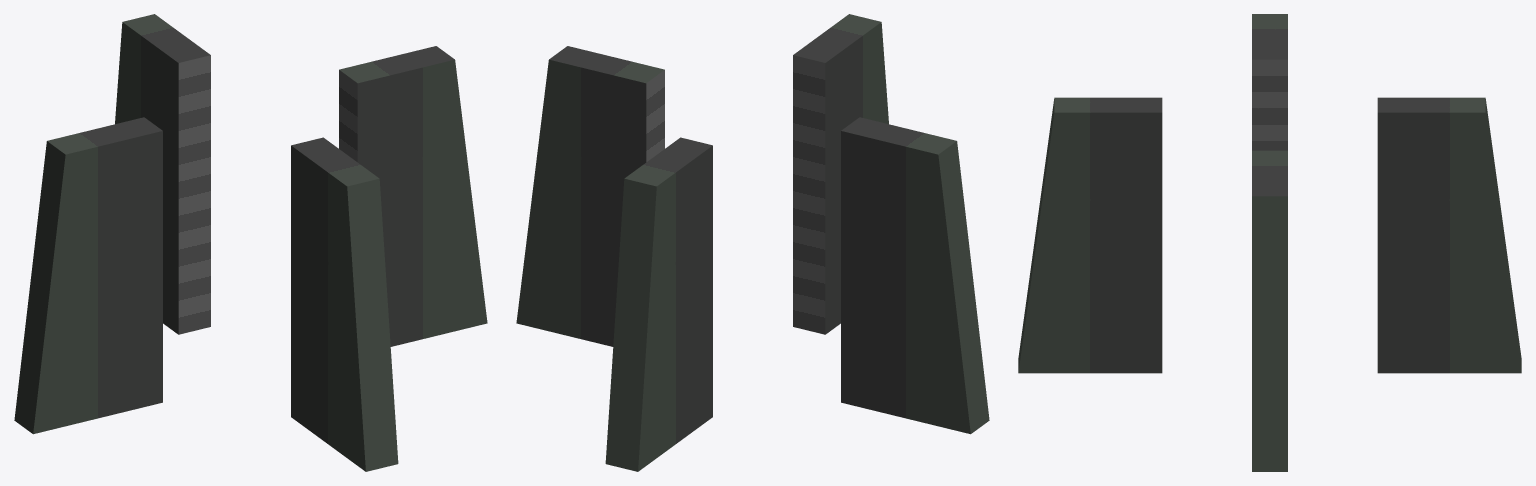
The model's file is mp_s_10_flat.obj.
3 views of the same model, side by side, from view 1: azimuth 30°, elevation 25°; view 2: azimuth 150°, elevation 25°; view 3: azimuth 270°, elevation 25° (orthographic). The views are drawn at different scales.
Parts seen in each view (by area): view 1: Cube; view 2: Cube; view 3: Cube.
Part boxes in pixels (box(x1,y1,x2,y2)): Cube: box(14, 14, 487, 471); Cube: box(516, 14, 989, 471); Cube: box(1018, 14, 1521, 471).
Size of the model in its own units: 1.75 by 1 by 1.75.
